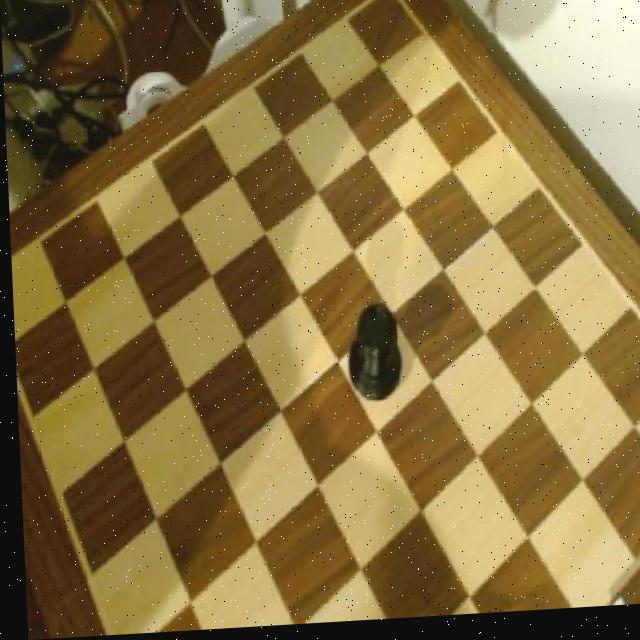black-queen: (342, 305, 402, 402)
